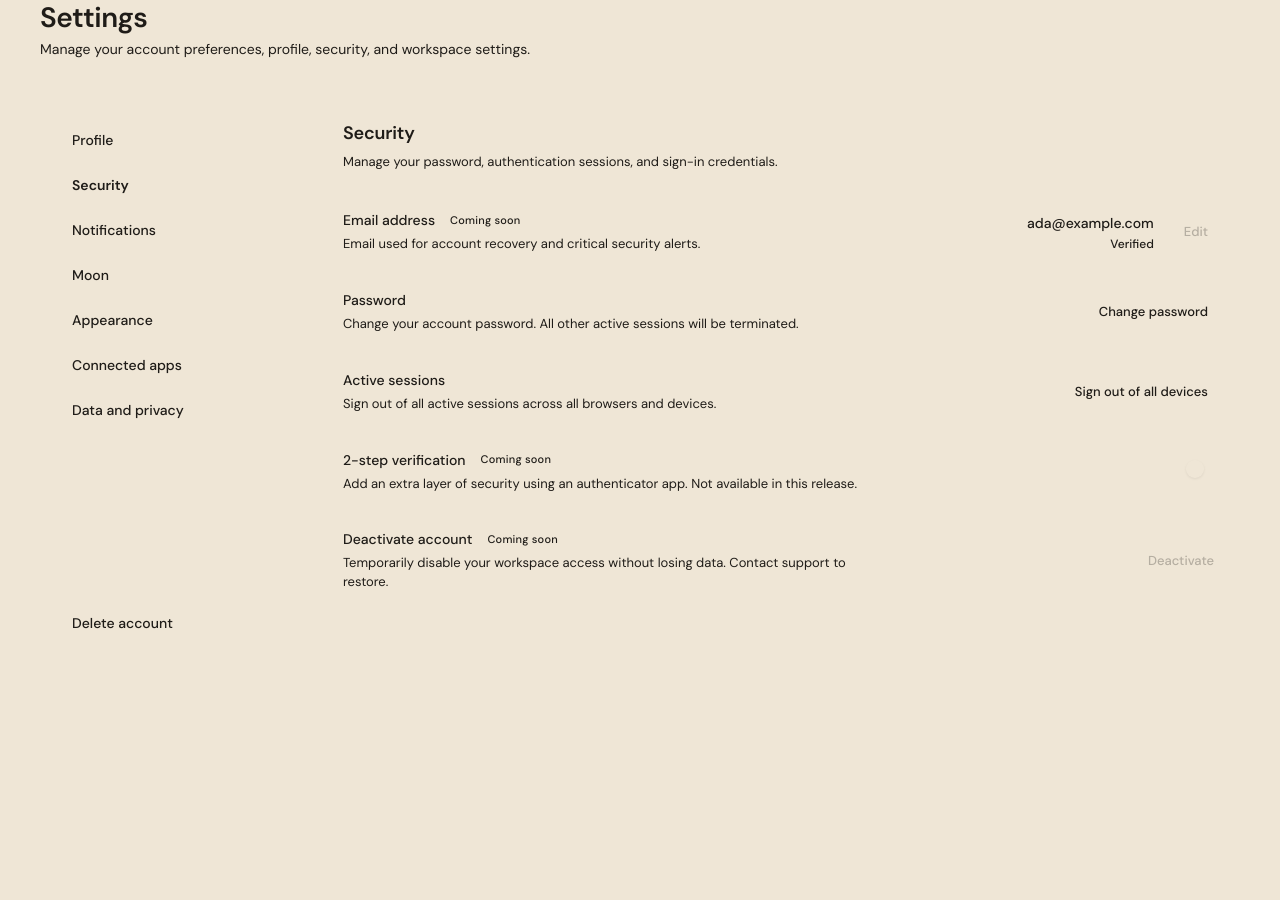
Test: Settings Hub — Phase 1 › Change Password Modal › displays dynamic password strength as user types new password
The width and height of the screenshot is (1280, 900).
Click the button "Change password".
click(1153, 312)  # box [1085,296,1222,328]
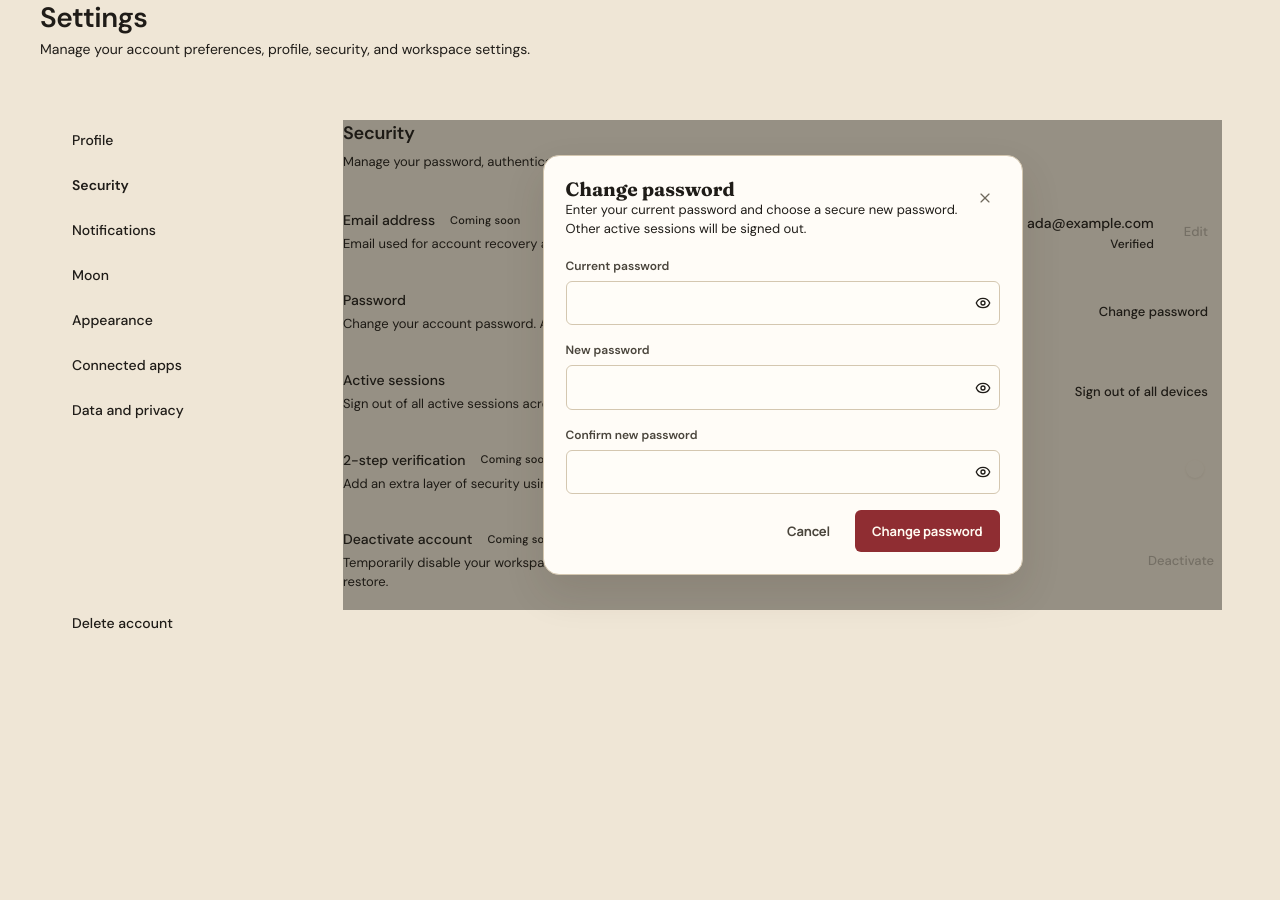
Type "pass" into the password field labelled "New password".
click(767, 388); type("pass")  # box [566,366,968,409]
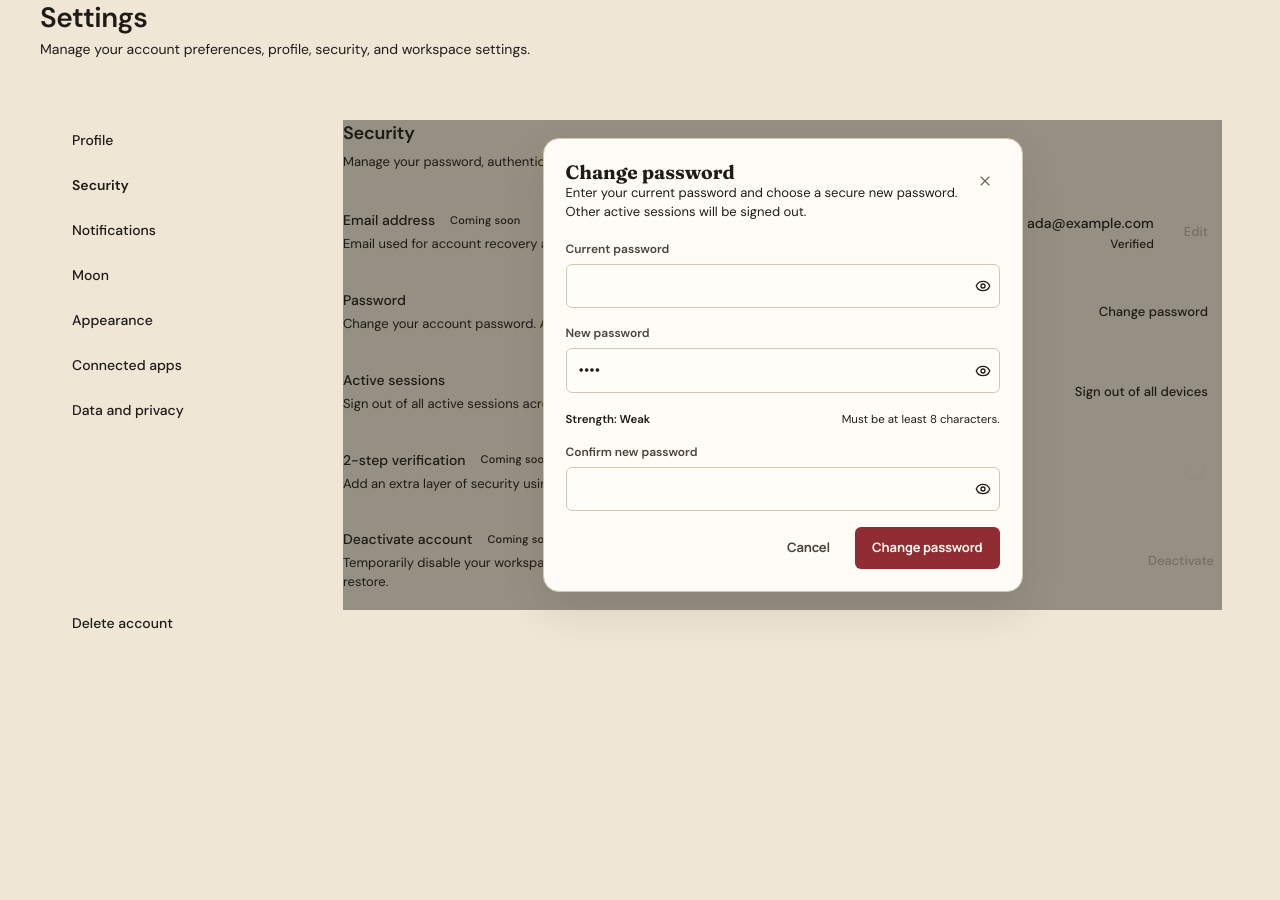
Result: the text "Strength: Weak" is shown at [566,413,650,427]
Type "Password123" into the password field labelled "New password".
click(767, 371); type("Password123")  # box [566,349,968,392]
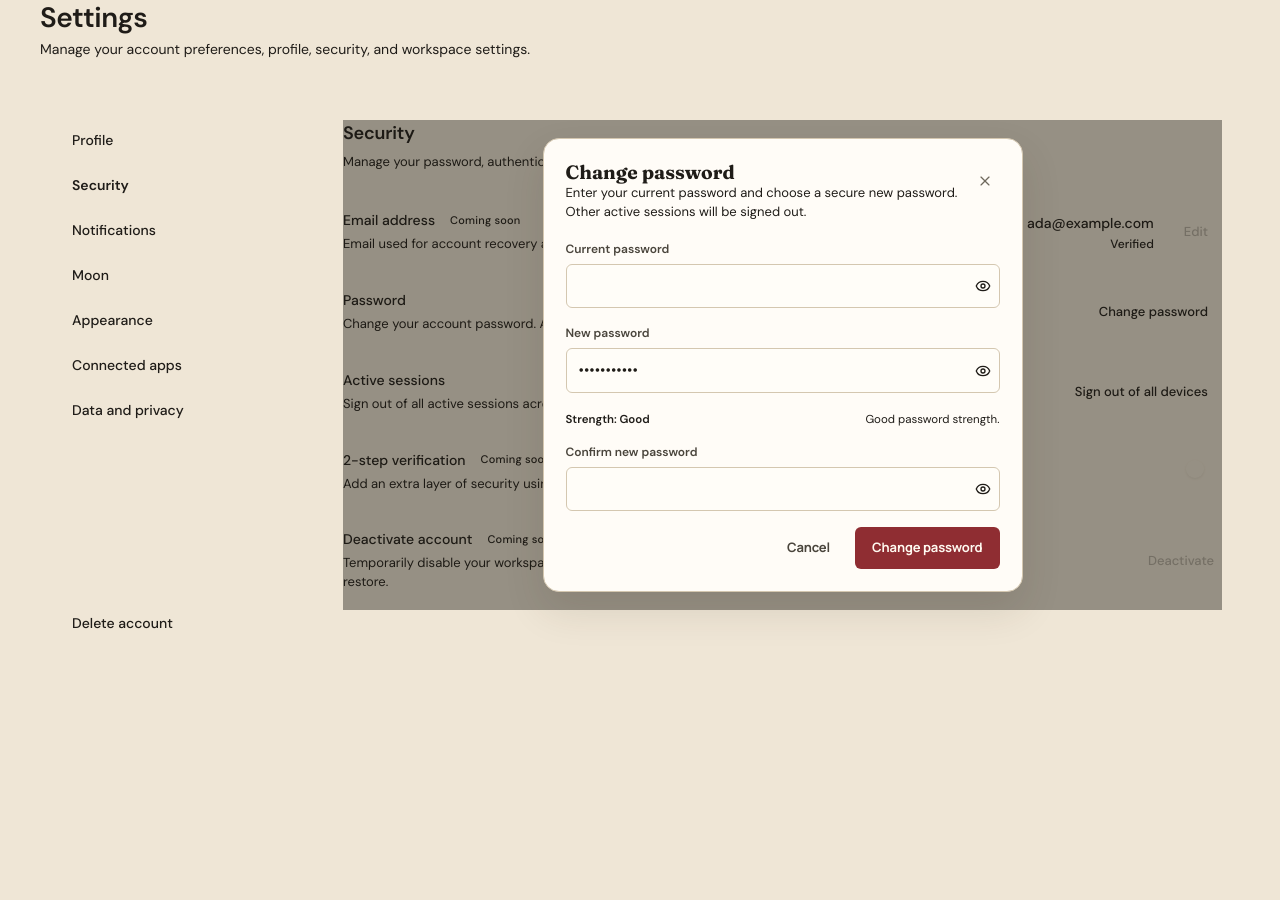
Result: the text "Strength: Good" is shown at [566,413,650,427]
Type "Super!Secure#2026Password" into the password field labelled "New password".
click(767, 371); type("Super!Secure#2026Password")  # box [566,349,968,392]
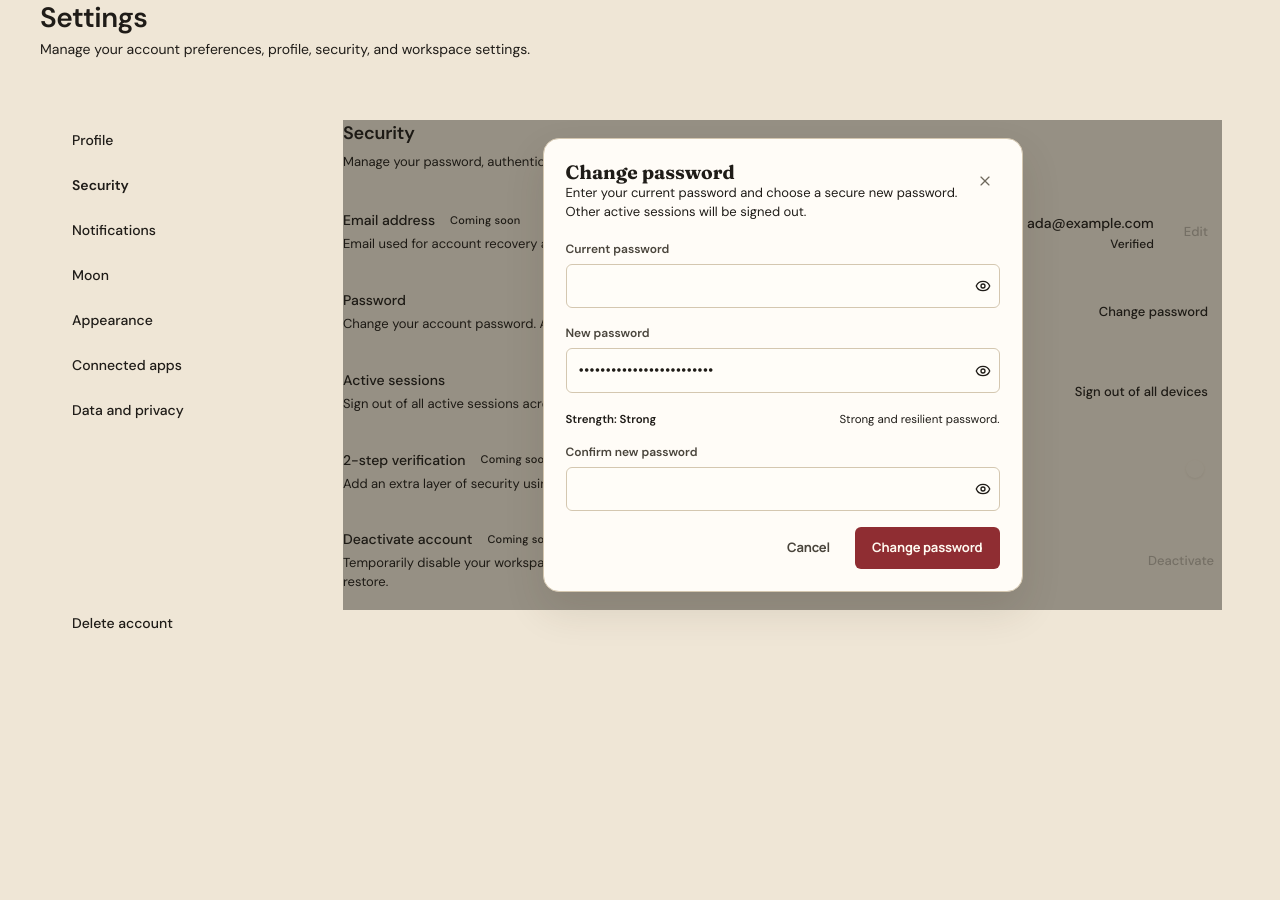
Result: the text "Strength: Strong" is shown at [566,413,656,427]
